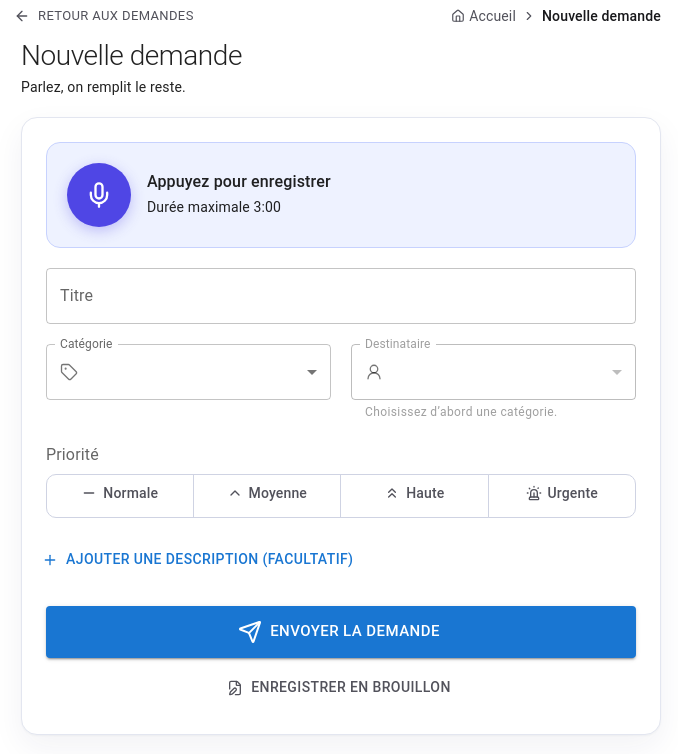
Test: CreateRequestPage › fait choisir la catégorie avant le destinataire, parmi les destinataires de la catégorie
The image size is (678, 754).
Expected: the heading "Nouvelle demande" is shown, [21,39,242,72]
Click the 1st dropdown named "Catégorie": (208, 372) [86,344,331,400]
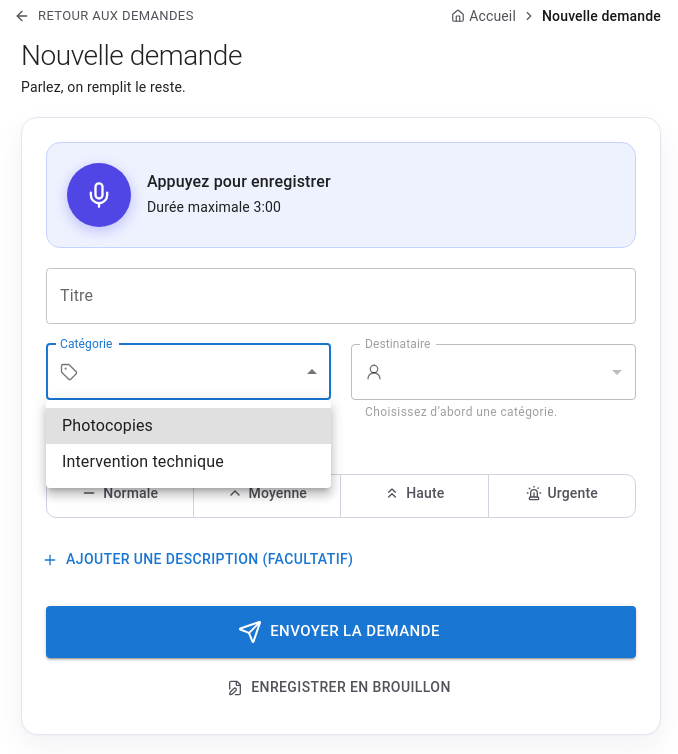
Click the option "Photocopies": (108, 426) [46,408,331,444]
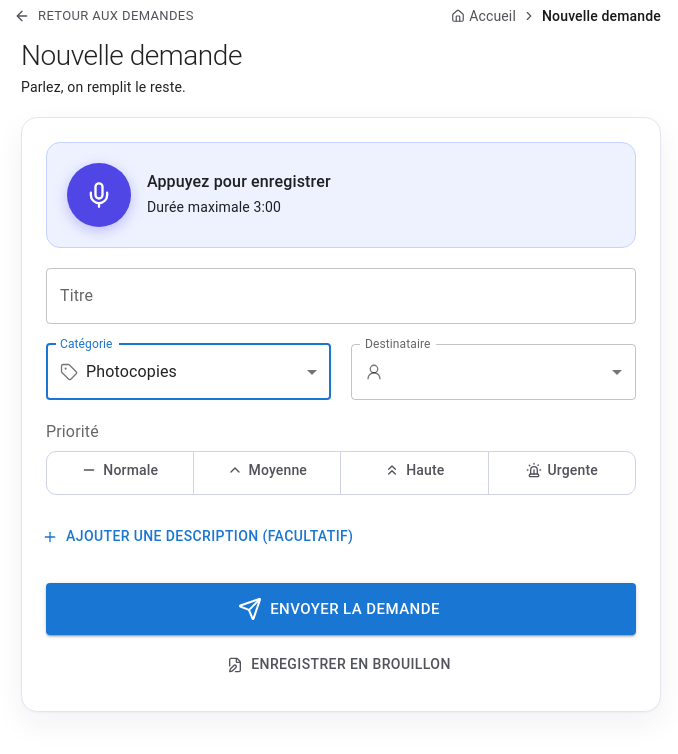
Click the dropdown named "Destinataire": (514, 372) [391,344,636,400]
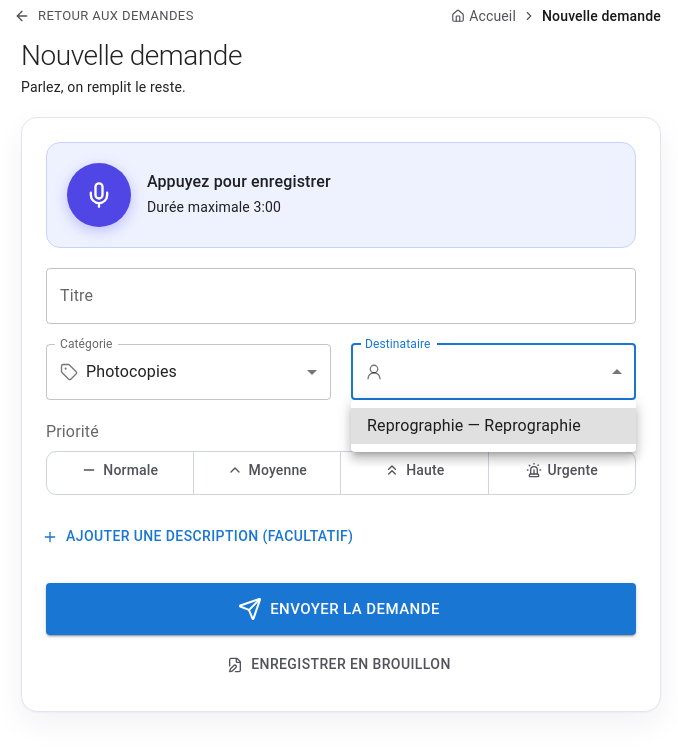
Now the options read "Reprographie — Reprographie", in this order, box [351,408,636,444]
